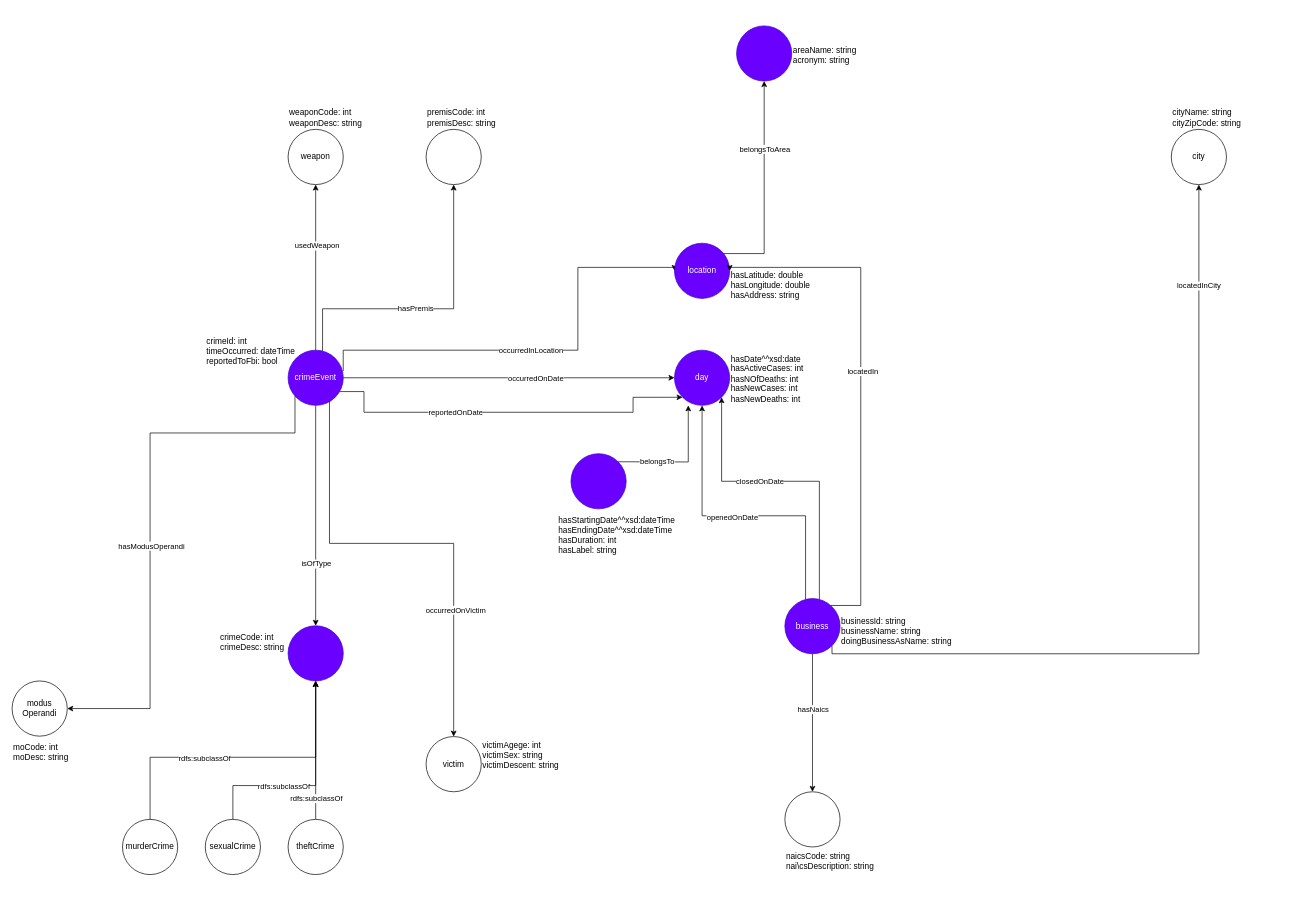
Some shapes in this 1294 by 914 pixel diagram are drawn without their labels. The box of each missing label's shape, as (x1, y1, x2, y2) in pixels:
Area: (736, 25, 792, 81)
crime: (287, 625, 343, 681)
naics: (784, 791, 840, 847)
period: (570, 453, 626, 509)
premis: (425, 129, 481, 185)
